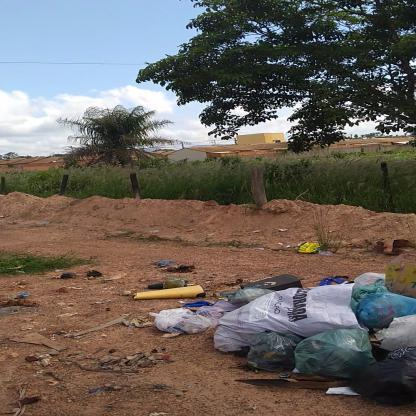lixo: (129, 272, 416, 416)
